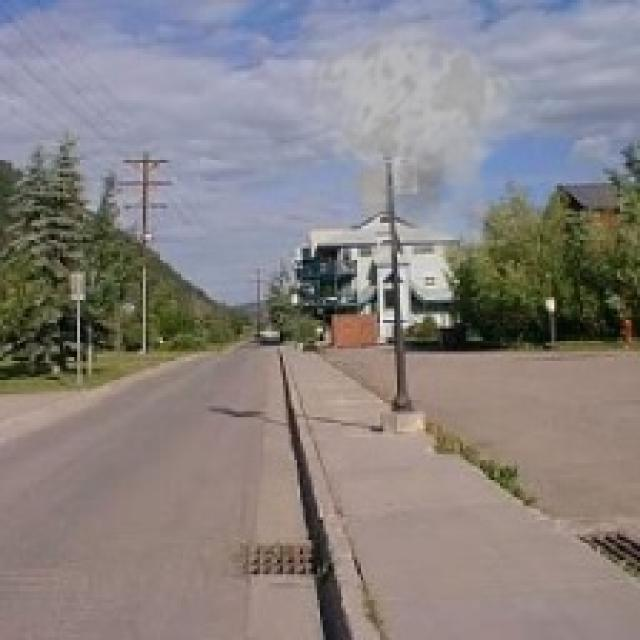smoke: (297, 20, 537, 274)
